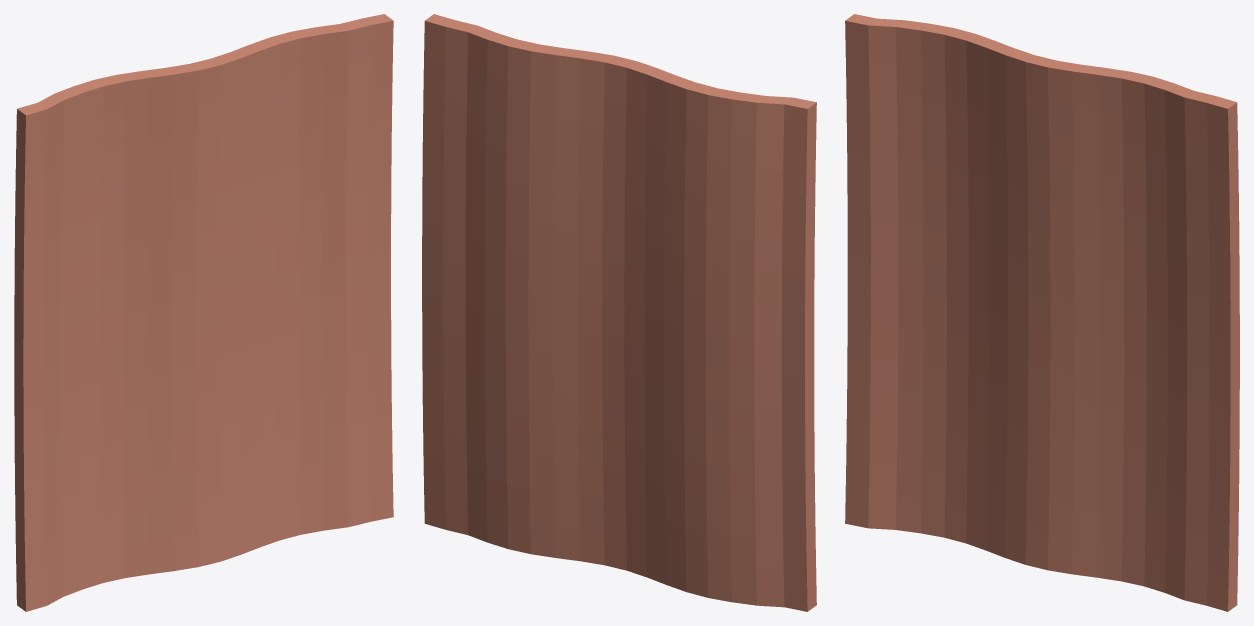
File: doppelmuldenfalzziegel.glb
The picture shows the model from 3 angles, left to right: view 1: azimuth 30°, elevation 25°; view 2: azimuth 150°, elevation 25°; view 3: azimuth 330°, elevation 25°; orthographic projection.
Parts seen in each view (by area): view 1: world; view 2: world; view 3: world.
Part boxes in pixels (<box>): world: <box>14,14,393,611</box>; world: <box>422,14,816,611</box>; world: <box>845,14,1239,611</box>.
Size of the model in its own units: 0.33 by 0.42 by 0.0339.
